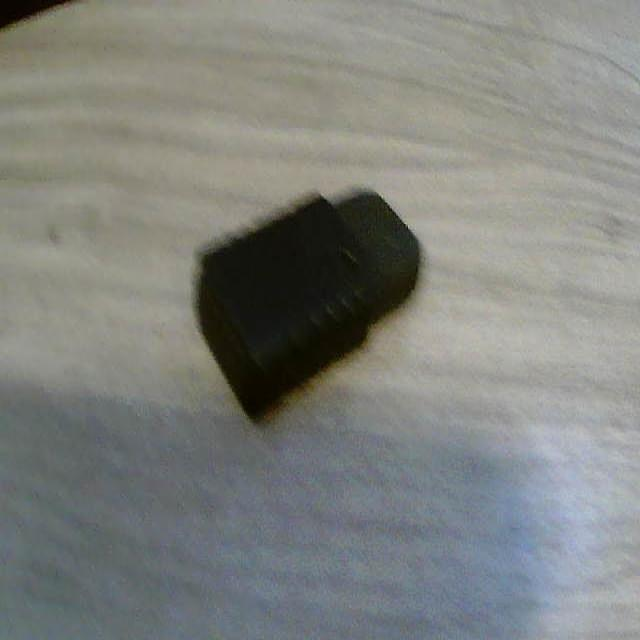borracha: (181, 143, 445, 441)
